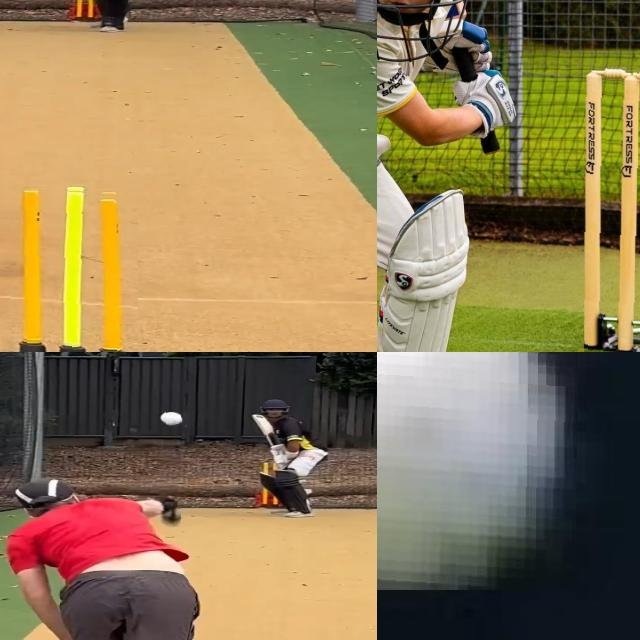Cricket ball: (377, 352, 580, 589), (158, 406, 188, 427)
Stumps: (1, 185, 138, 352), (584, 63, 640, 352)
